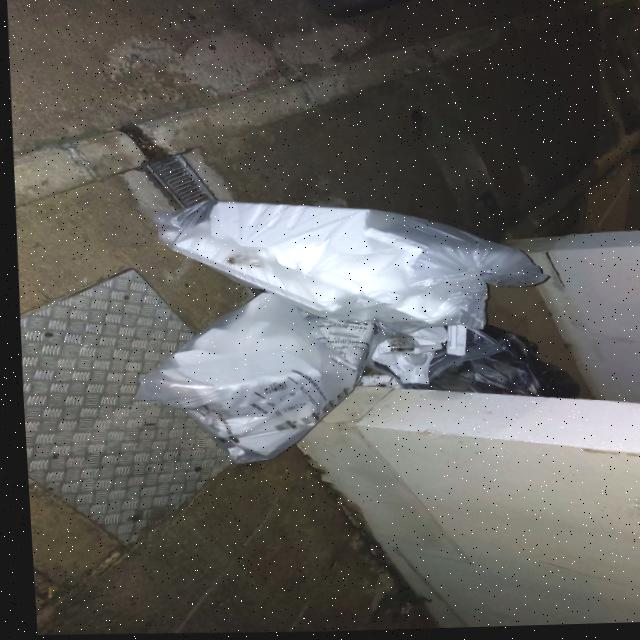Mixed Waste -Black Bag-: (392, 324, 575, 409)
Other: (368, 336, 433, 389), (439, 326, 465, 361)
Recycled Waste -Grey or Green Bag-: (133, 193, 551, 340), (119, 288, 389, 472)
